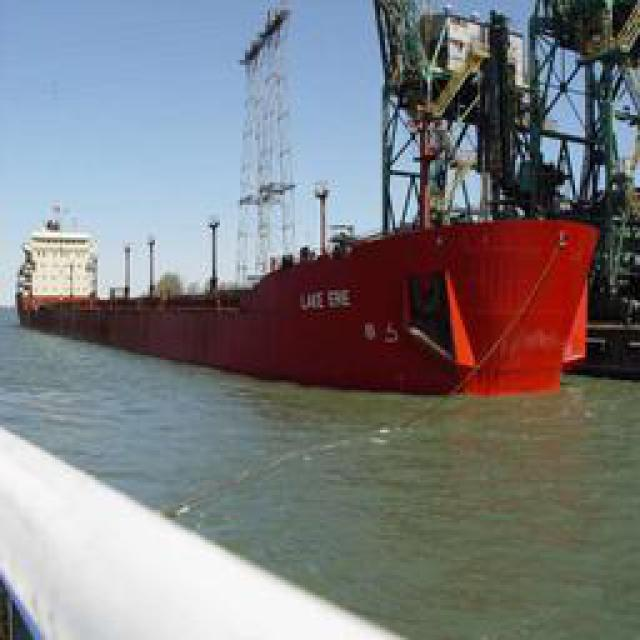Ship: (24, 95, 619, 398)
